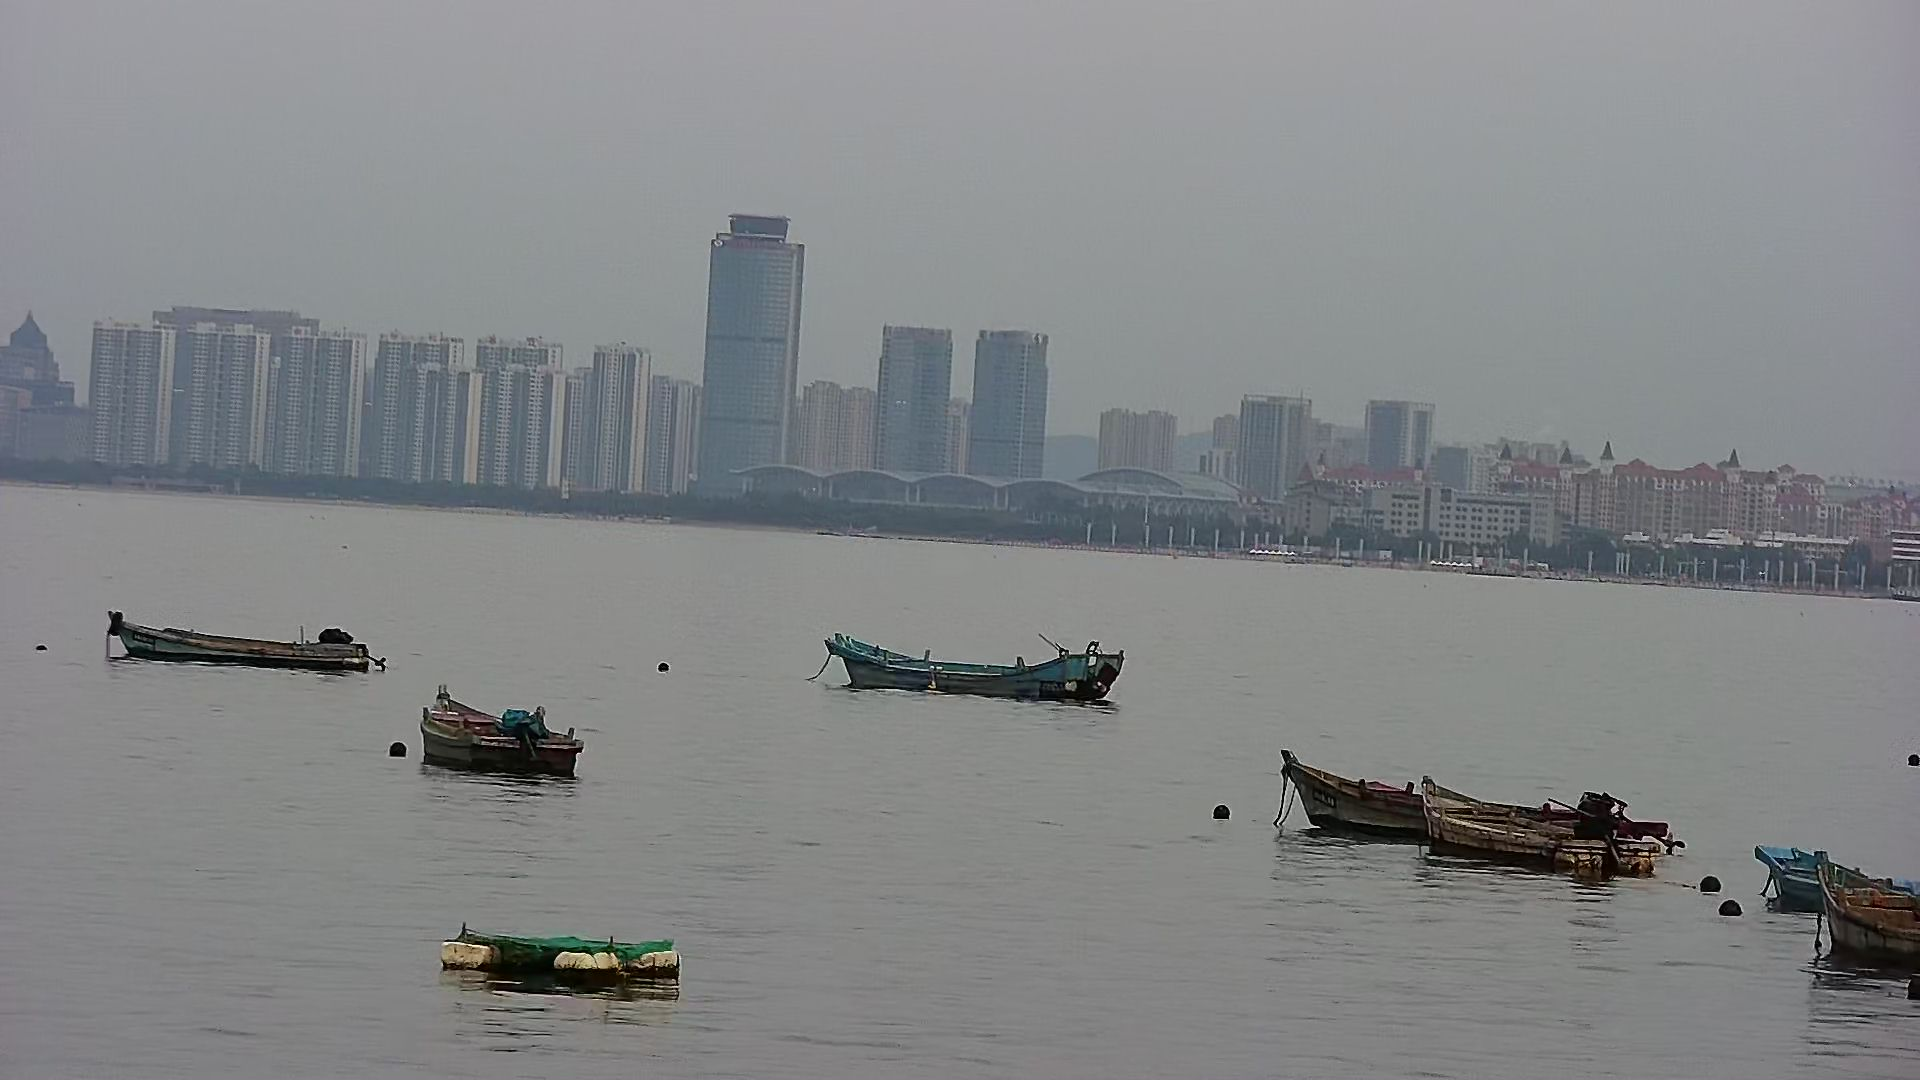boat: (820, 604, 1138, 728), (1425, 756, 1683, 899), (98, 575, 382, 704), (1265, 725, 1437, 861), (406, 667, 584, 795), (1750, 804, 1909, 910), (1826, 876, 1920, 1007)
platform: (431, 913, 687, 990)
